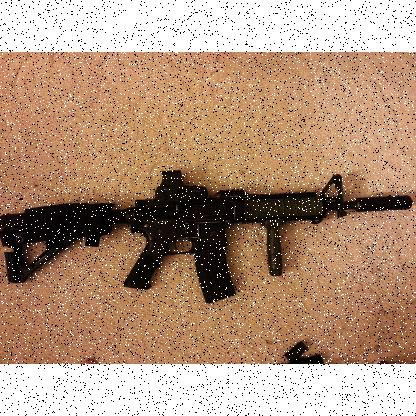gun: (0, 170, 412, 304)
